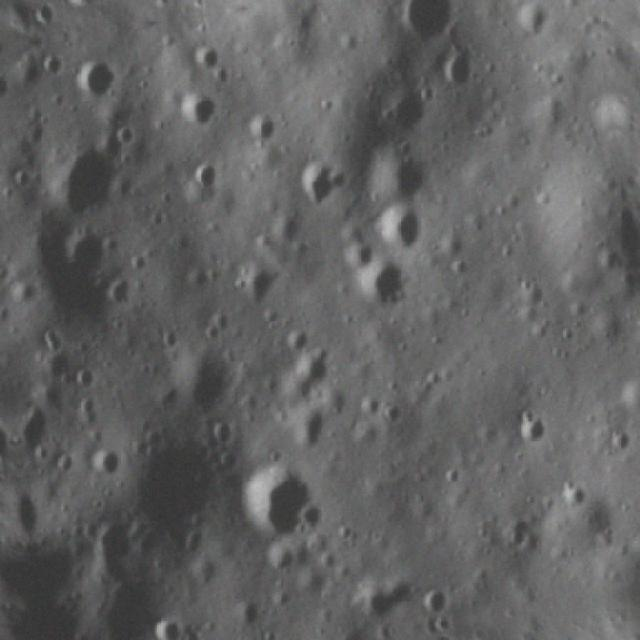crater: (125, 432, 230, 548), (41, 130, 136, 224), (227, 461, 324, 548), (162, 344, 241, 428), (76, 521, 144, 597), (372, 139, 441, 207), (293, 149, 356, 214), (92, 587, 167, 640), (387, 0, 463, 52), (61, 50, 130, 107), (352, 259, 413, 321), (9, 396, 66, 462), (369, 203, 431, 263), (382, 80, 436, 142), (230, 260, 287, 315), (288, 401, 338, 462), (59, 224, 112, 281), (178, 81, 231, 134), (512, 402, 562, 458), (580, 87, 618, 159), (441, 48, 487, 102), (81, 442, 130, 492), (550, 472, 602, 519), (411, 581, 457, 628), (500, 515, 542, 563), (23, 488, 51, 546), (185, 42, 226, 80), (615, 366, 640, 426), (601, 429, 640, 464), (204, 4, 270, 24), (68, 363, 104, 397), (0, 66, 20, 108), (150, 618, 185, 640)
